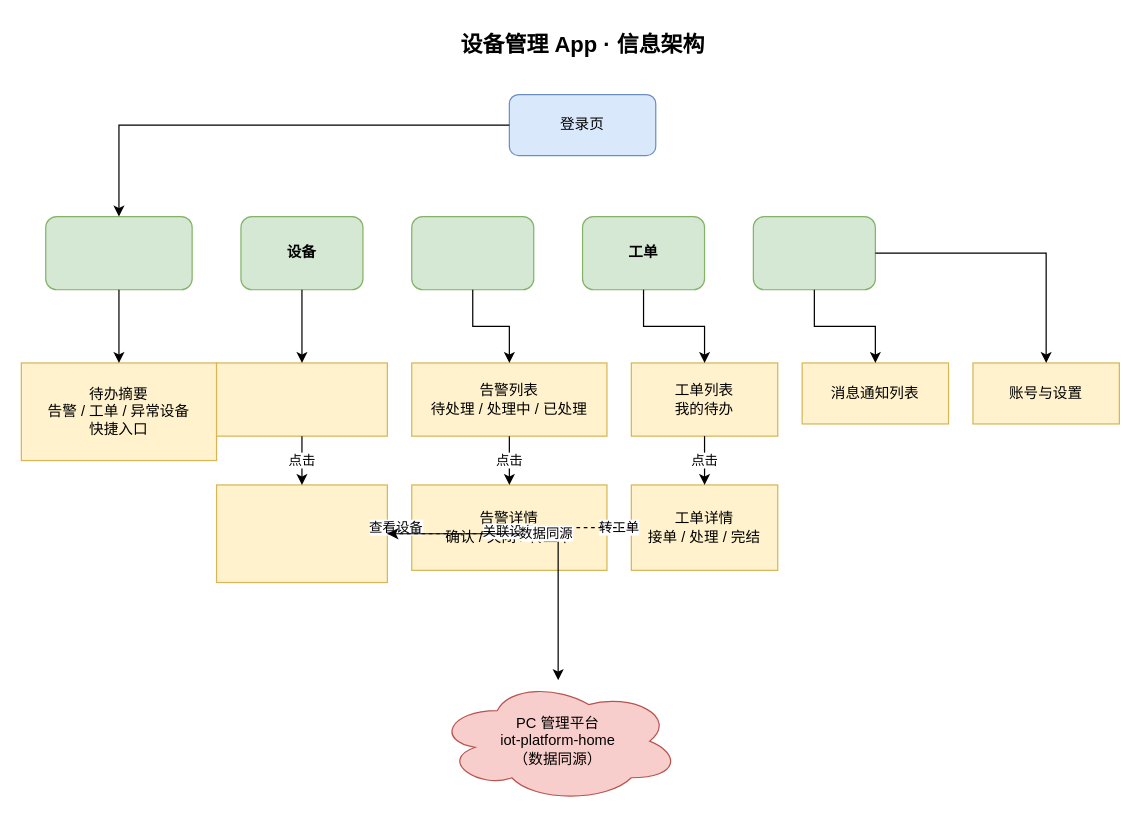
The diagram is 1141 pixels wide and 824 high, and some of its shapes have lost their labels. Here are the shapes that lost their labels. From the top down, the box of each, then its label:
(45, 215, 192, 290): 首页 待办摘要
(411, 215, 534, 290): 告警
(752, 215, 875, 290): 我的
(215, 362, 387, 436): 设备列表 筛选 / 搜索
(215, 484, 387, 583): 设备详情 水表读数 / 压力值 在线状态 / 地址
